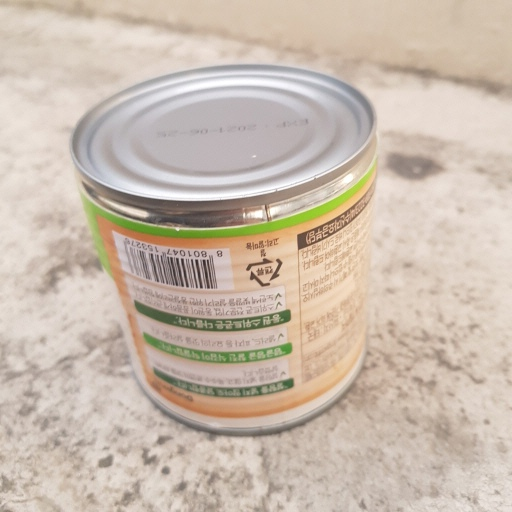Metal_1: (65, 61, 383, 434)
